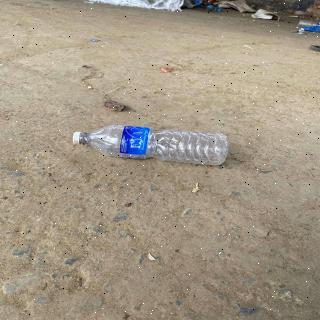Plastic-bottle: (72, 125, 232, 170)
